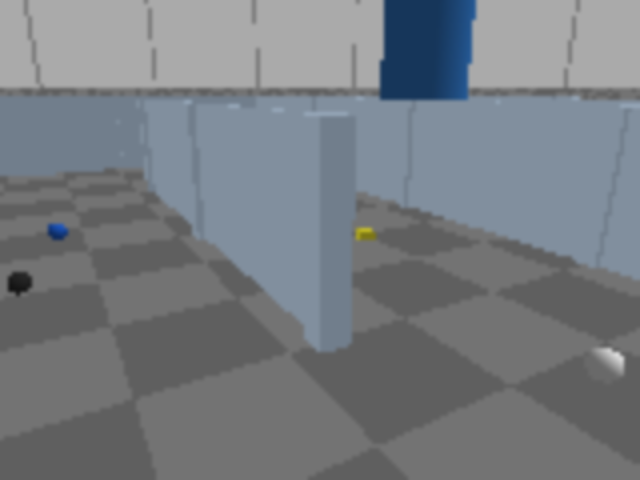puck: (576, 338, 634, 394), (0, 268, 40, 299), (44, 219, 70, 243), (356, 227, 375, 242)
